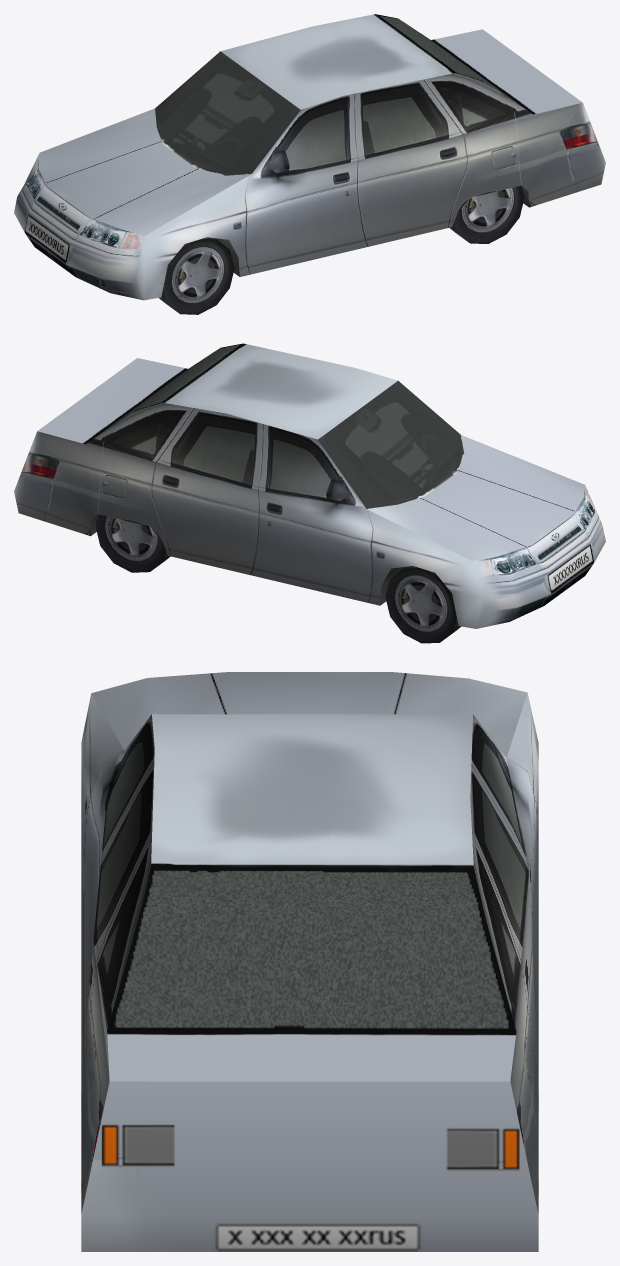
The picture shows the model from 3 angles, top to bottom: view 1: azimuth 30°, elevation 25°; view 2: azimuth 150°, elevation 25°; view 3: azimuth 270°, elevation 25°; orthographic projection. The views are drawn at different scales.
Visible parts, largest first — view 1: body; view 2: body; view 3: body.
Boxes of the visible parts, x1,y1,x2,y2 form: body: (14,14,605,314); body: (14,343,605,643); body: (81,672,538,1251).
Size of the model in its own units: 467 by 150 by 184.
